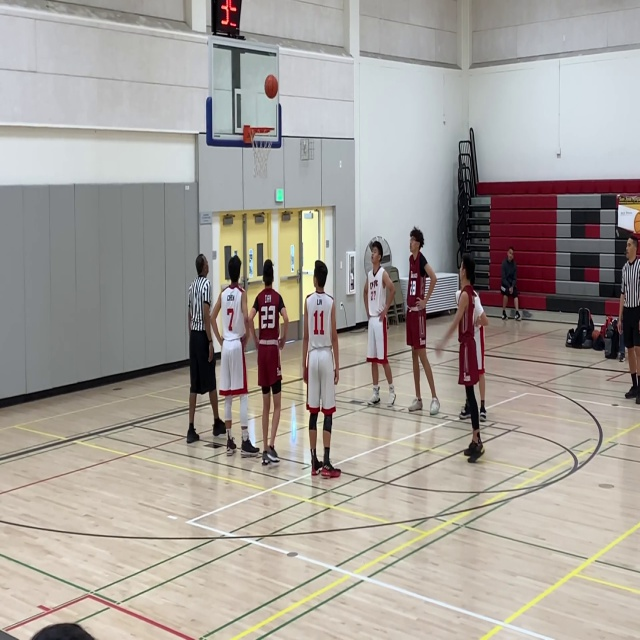Basketball: (264, 74, 278, 98)
